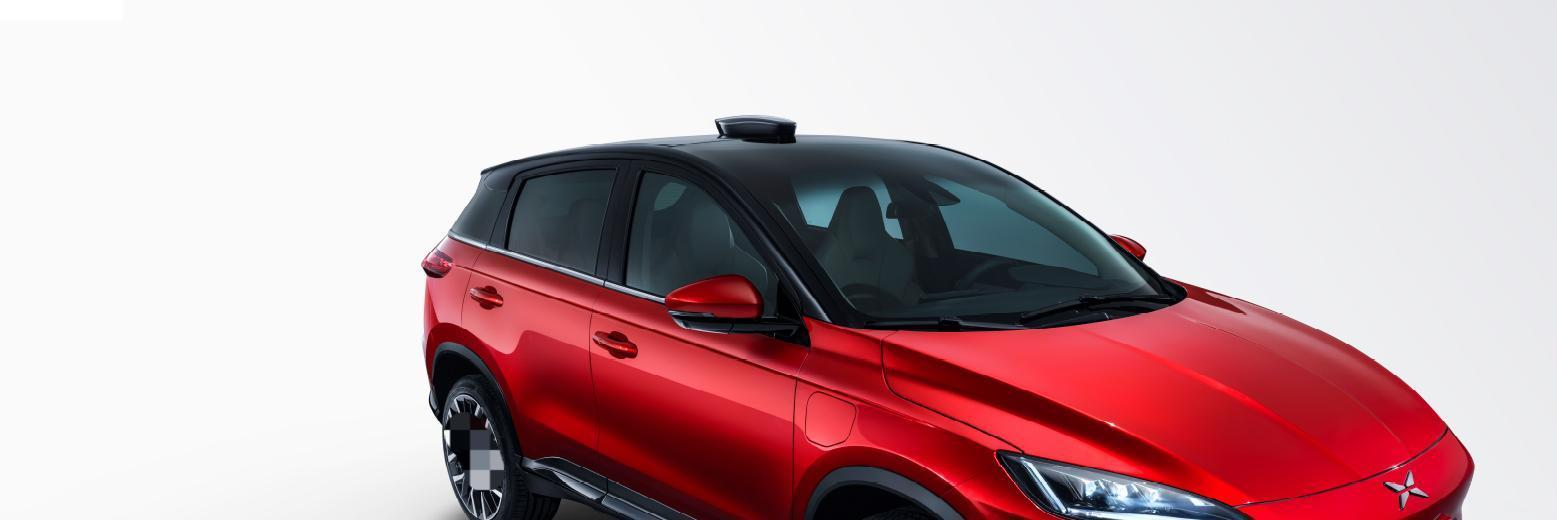XPeng Motors: (1383, 469, 1430, 511)
